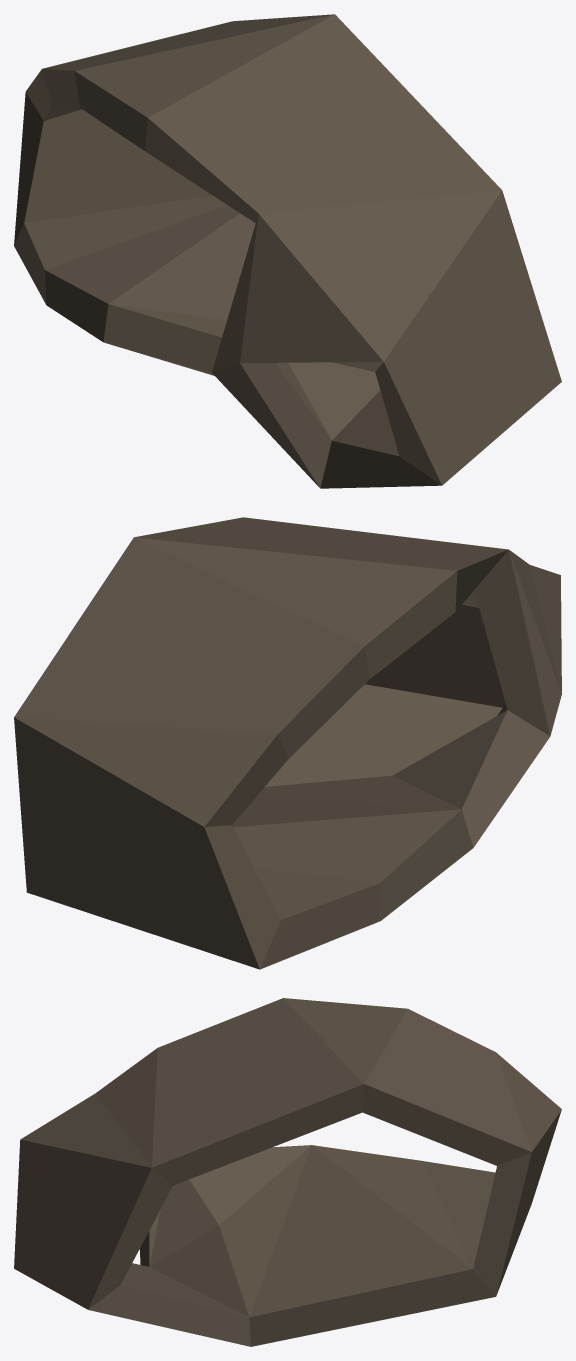
Rendered from Chr_HandRight_Female_15_Drop.fbx.
The picture shows the model from 3 angles, top to bottom: view 1: azimuth 30°, elevation 25°; view 2: azimuth 150°, elevation 25°; view 3: azimuth 270°, elevation 25°; orthographic projection. The views are drawn at different scales.
Visible parts, largest first — view 1: Chr_HandRight_Female_15_Static; view 2: Chr_HandRight_Female_15_Static; view 3: Chr_HandRight_Female_15_Static.
Boxes of the visible parts, box(x1,y1,x2,y2) form: Chr_HandRight_Female_15_Static: box(14, 14, 561, 488); Chr_HandRight_Female_15_Static: box(14, 517, 561, 969); Chr_HandRight_Female_15_Static: box(14, 998, 561, 1346).
Size of the model in its own units: 8.72 by 8.69 by 16.03.
